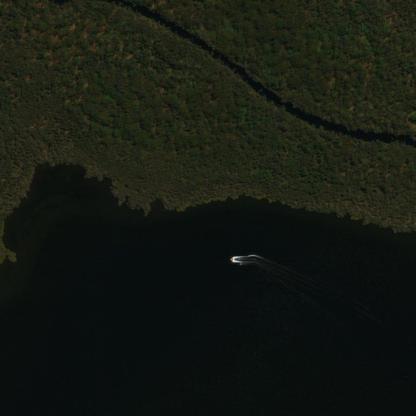ship: (229, 258, 233, 260)
